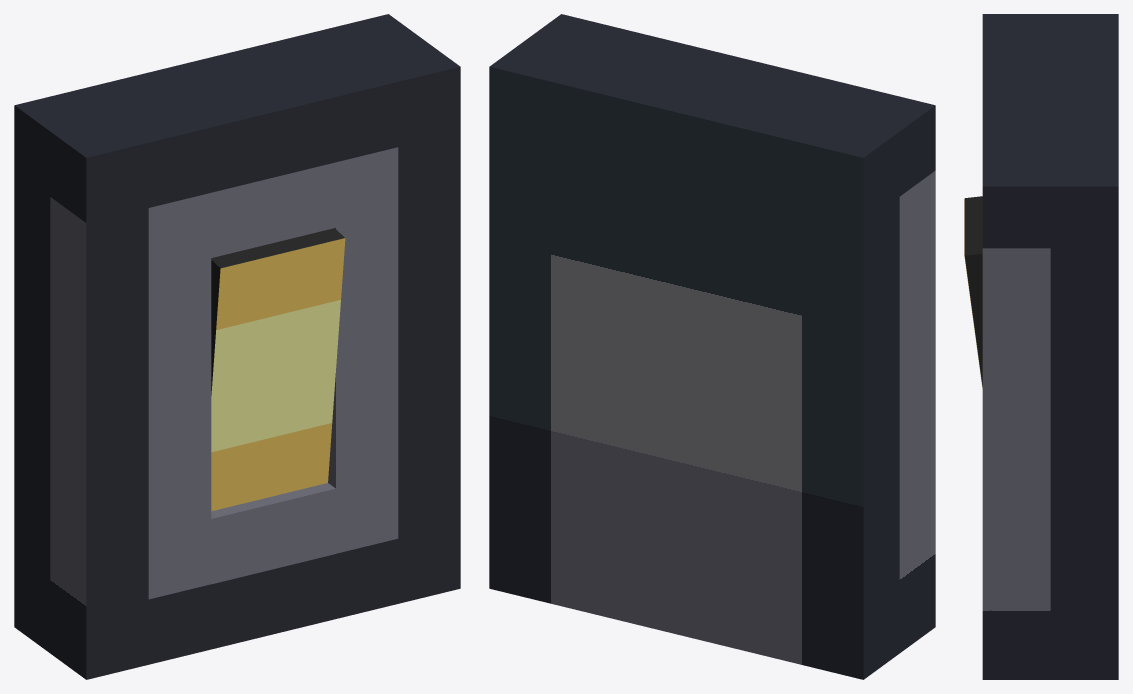
The model's file is light_switch_on.glb.
3 renders of one model, left to right at view 1: azimuth 30°, elevation 25°; view 2: azimuth 150°, elevation 25°; view 3: azimuth 270°, elevation 25°, orthographic. The views are drawn at different scales.
Parts seen in each view (by area): view 1: Continuous_Housing, Frame_Emission_Overlay, Rocker_Emission_Overlay, Rocker; view 2: Continuous_Housing; view 3: Continuous_Housing, Rocker.
Boxes of the visible parts, x1,y1,x2,y2 form: Continuous_Housing: (14,14,460,679); Frame_Emission_Overlay: (149,162,398,584); Rocker_Emission_Overlay: (211,238,345,511); Rocker: (211,228,344,397); Continuous_Housing: (489,14,935,679); Continuous_Housing: (982,14,1118,679); Rocker: (964,196,982,386).
Bounding box in the file's own units: 0.1688 × 0.225 × 0.0637.
4 materials, 4 textured.
